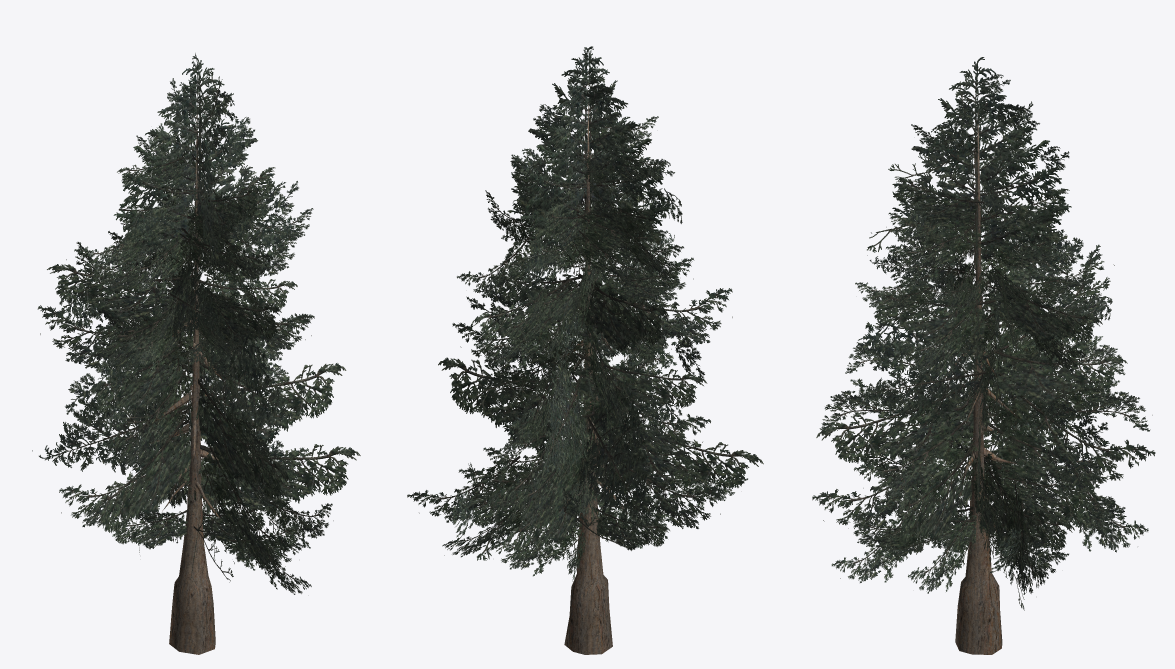
Rendered from broad_b.glb.
3 views of the same model, side by side, from view 1: azimuth 30°, elevation 25°; view 2: azimuth 150°, elevation 25°; view 3: azimuth 270°, elevation 25° (orthographic).
Visible parts, largest first — view 1: tree; view 2: tree; view 3: tree.
Boxes of the visible parts, x1,y1,x2,y2 form: tree: (32, 53, 360, 654); tree: (407, 46, 763, 654); tree: (812, 57, 1155, 654).
Size of the model in its own units: 5.45 by 10 by 5.46.
Materials: 2 (2 with a texture image).
